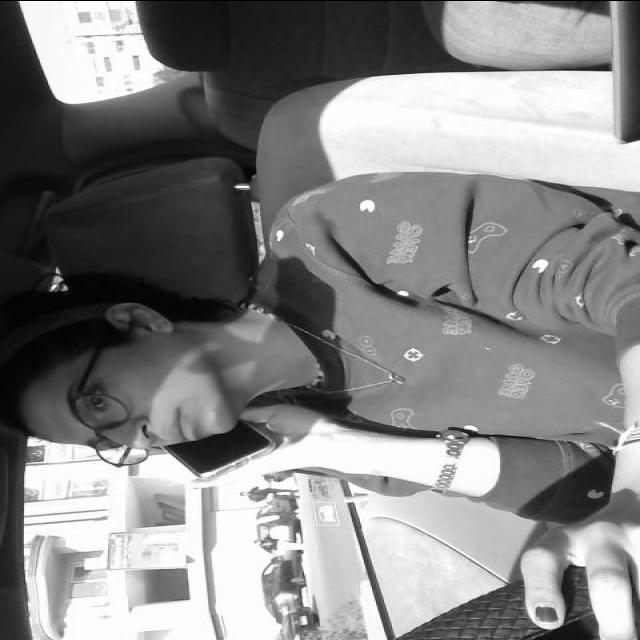mobile use: (152, 417, 296, 482)
